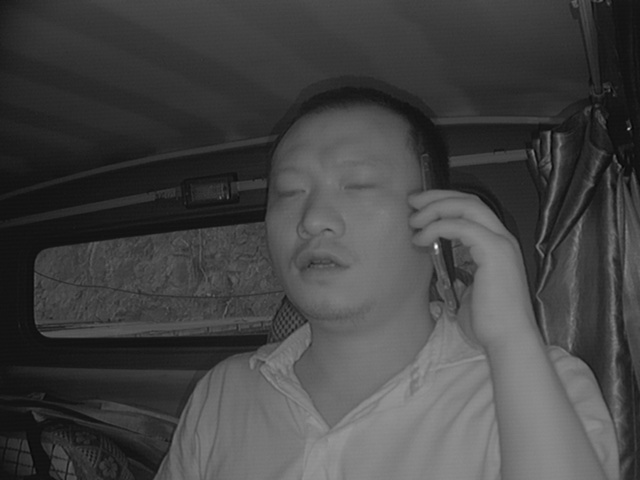hand: (406, 188, 538, 365)
